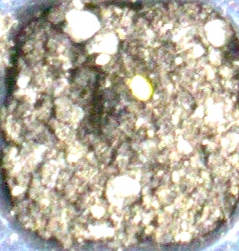pepper seed: (51, 24, 205, 126)
